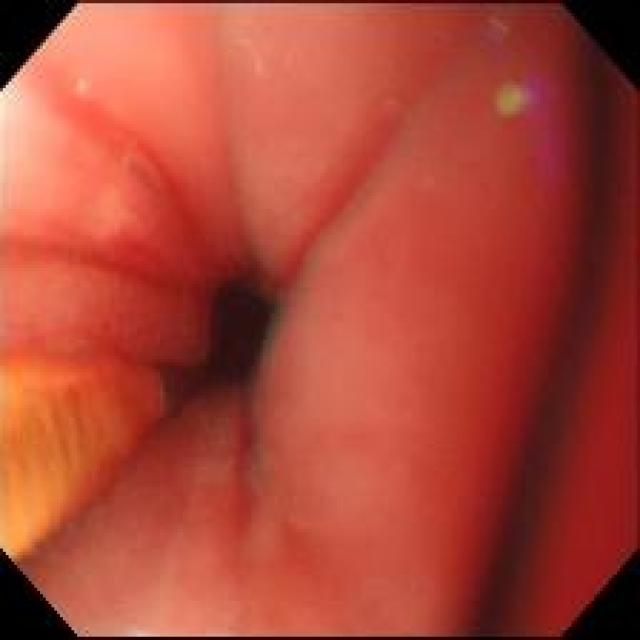blur: (478, 132, 634, 628), (5, 336, 207, 619)
color misalignment: (529, 76, 562, 176), (258, 283, 289, 361), (494, 78, 527, 121), (485, 13, 510, 39)
contrast: (198, 268, 277, 377)
instrument: (1, 355, 178, 568)
